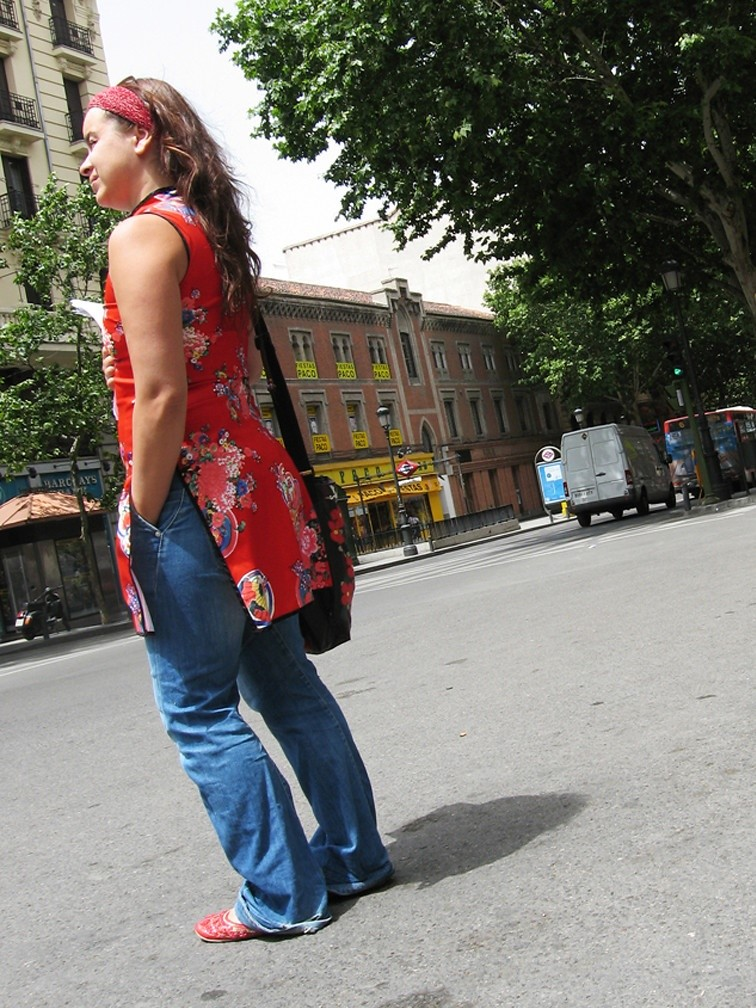face_no_mask: (76, 74, 183, 206)
